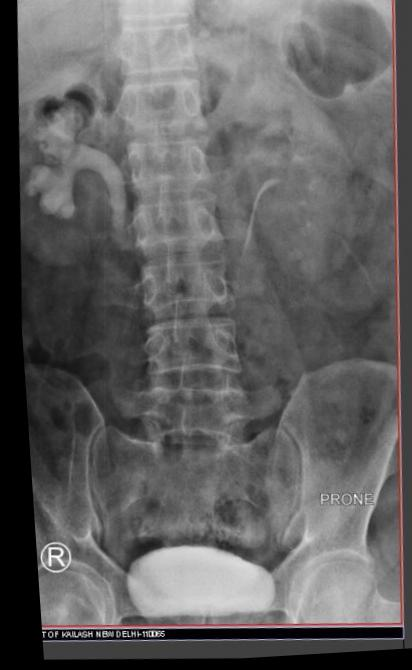bladder: (107, 537, 275, 627)
left kidney: (216, 76, 375, 302)
right kidney: (6, 64, 136, 279)
vertebrae: (118, 132, 214, 196)
